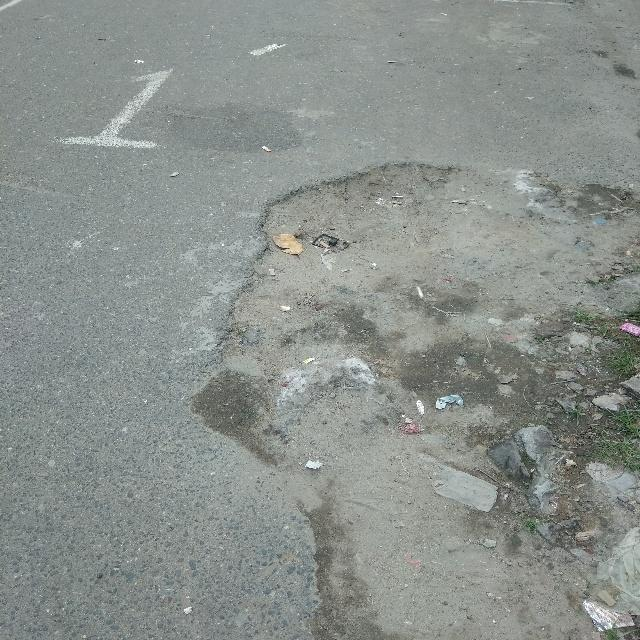Surface Erosion: (0, 41, 615, 572)
